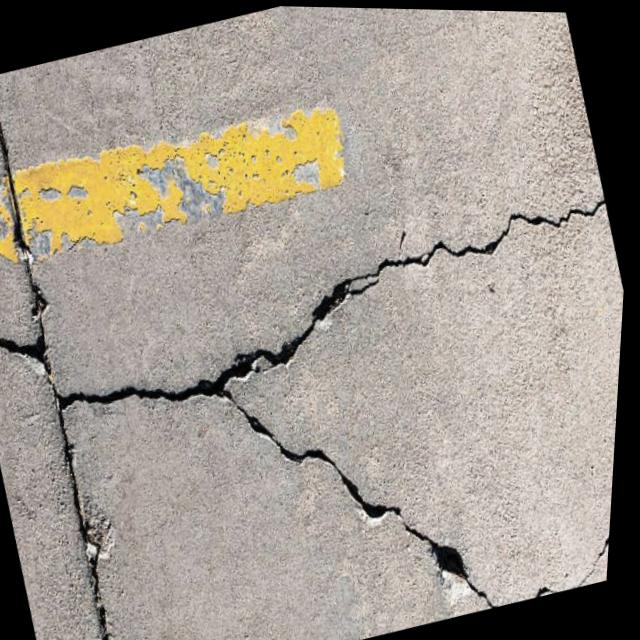Crack: (227, 302, 626, 640), (203, 158, 633, 396), (0, 75, 163, 640), (53, 306, 260, 506)
